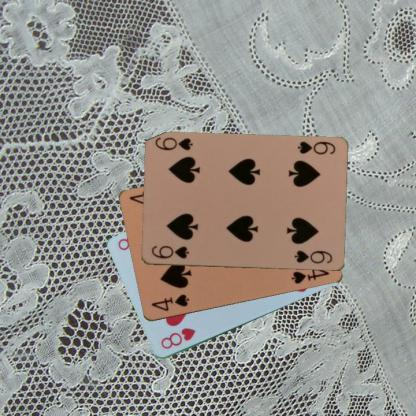4s: (149, 292, 190, 312)
6s: (149, 243, 190, 260), (295, 139, 336, 156)
8h: (158, 325, 197, 351)
